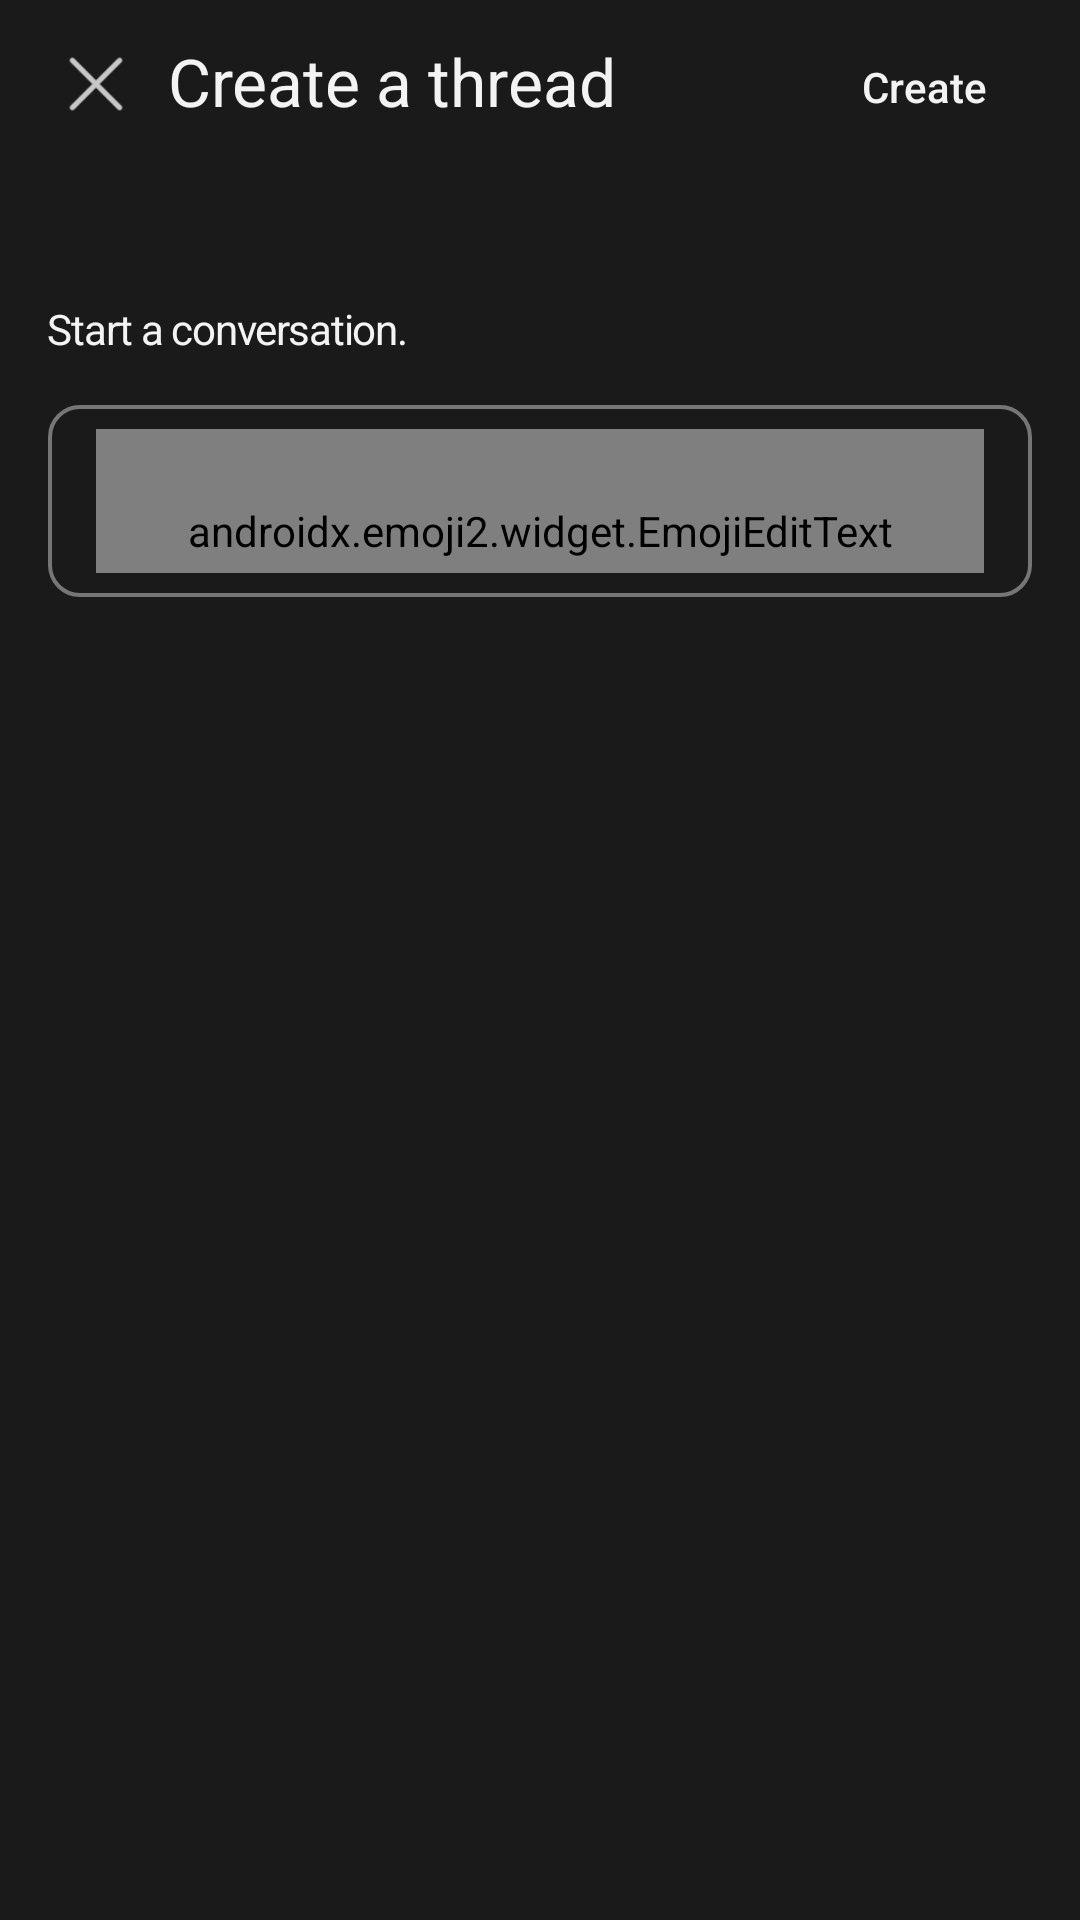

Named icons in this screenshot (1080px x 1920px) and their centers, [x,y]:
Cancel: [96,84]
